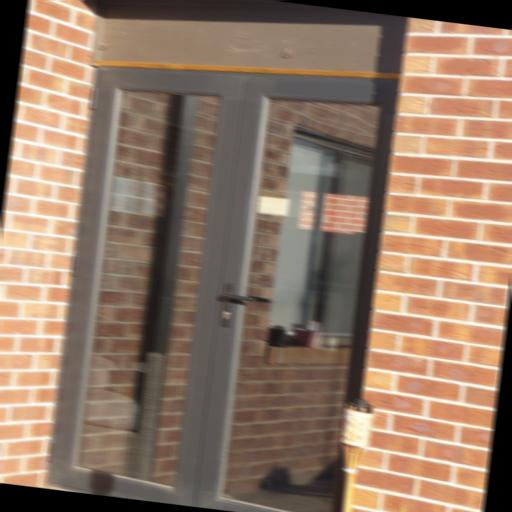Door: (44, 39, 402, 512)
